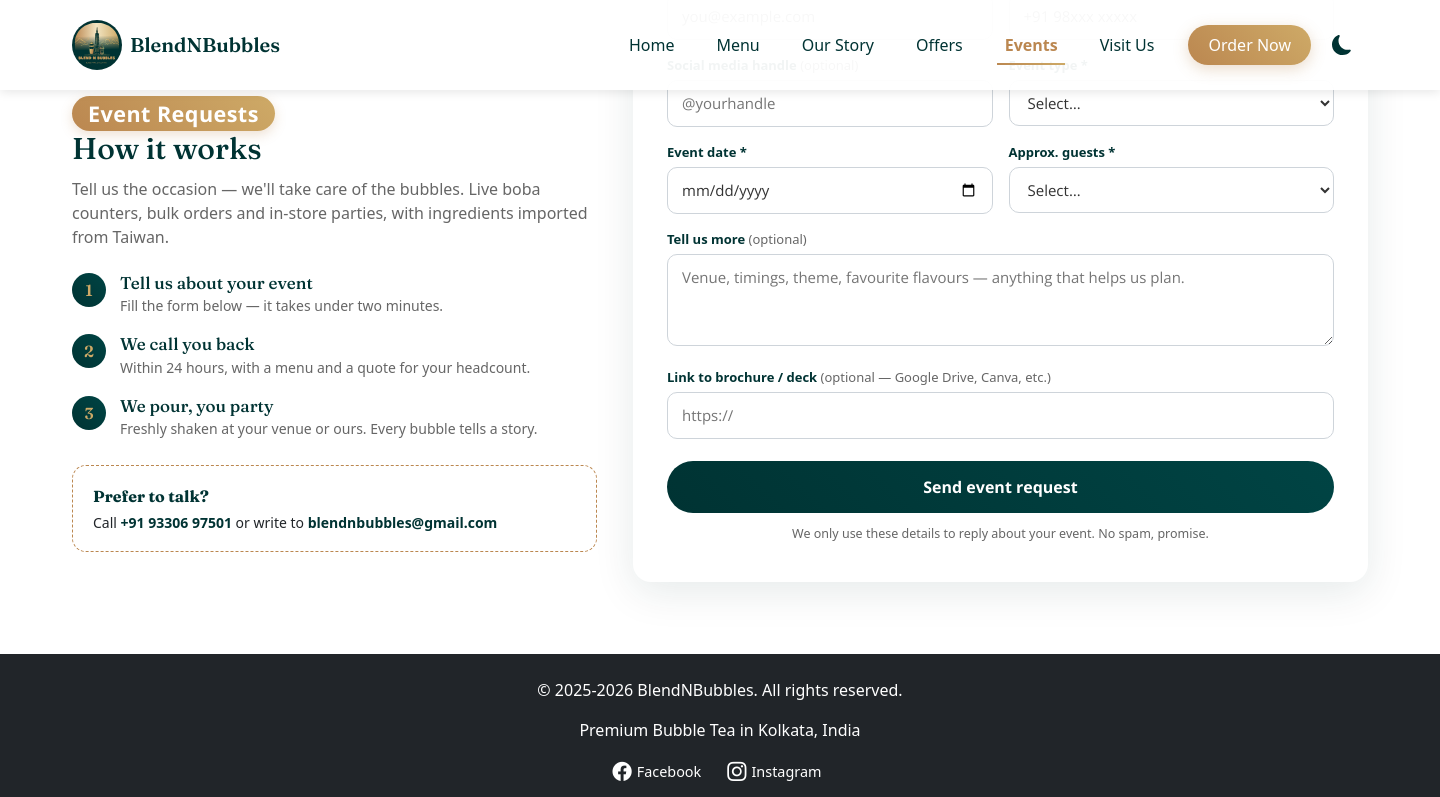
Events page › blocks submission and shows per-field errors when required fields are empty
(page scrolled)
What coordinates should you click on to do the following:
click the button "Send event request"
I would click on:
 (1000, 487)
Its box is x1=667 y1=461 x2=1334 y2=513.
(page scrolled)
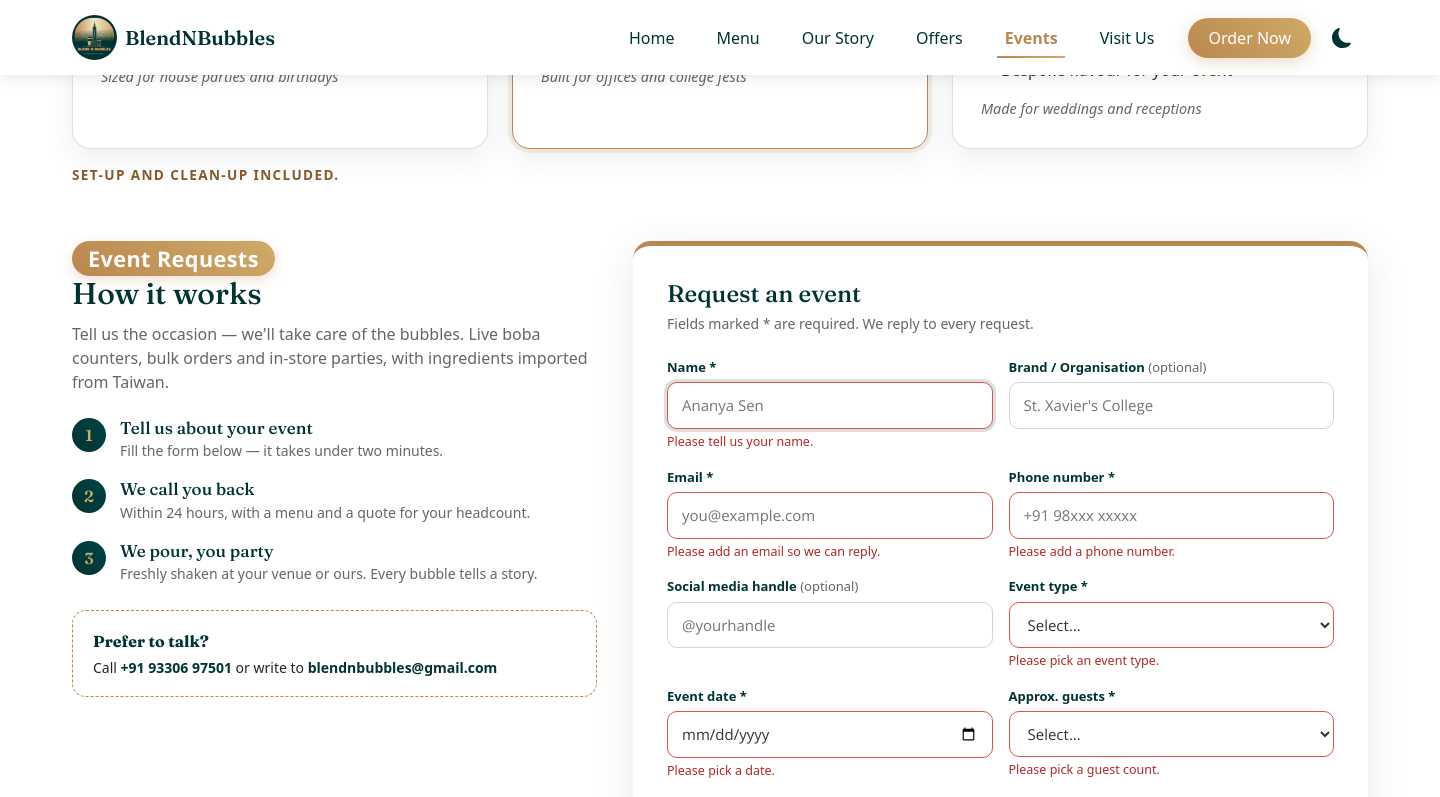
Expected: the text "Please tell us your name." is shown, x1=667 y1=433 x2=813 y2=450
